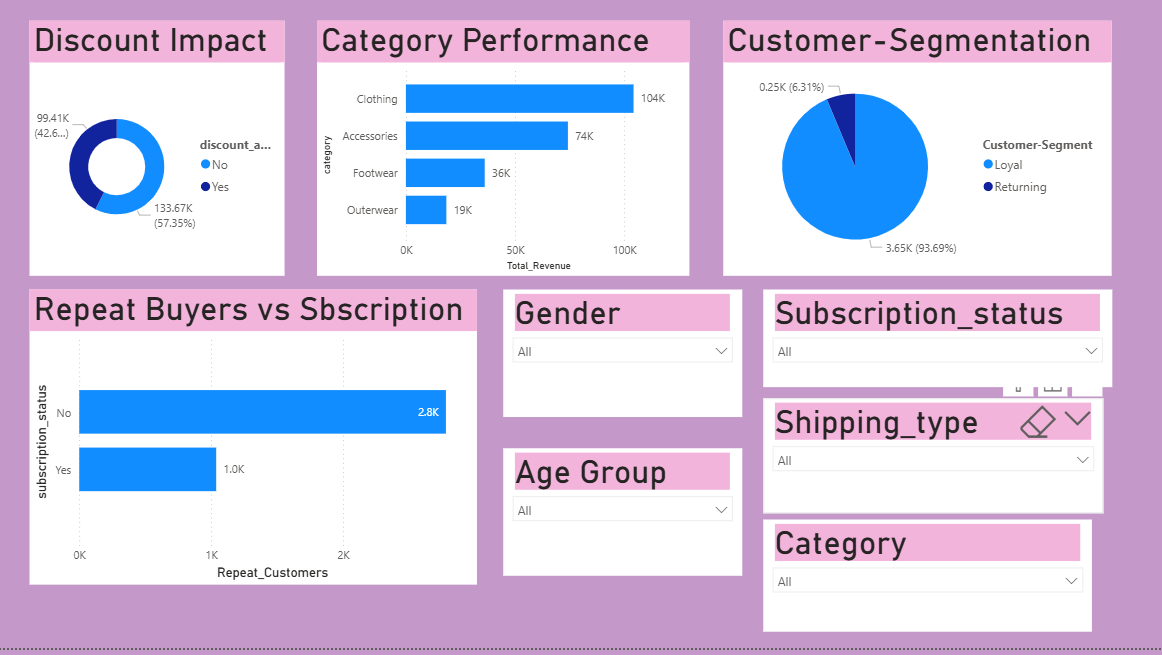

Layout of this report page (visuals, bound fields, positions):
{"tool":"powerbi","page":{"name":"Page 3","canvas":[1280,720],"ordinal":2},"visuals":[{"type":"donutChart","title":"Discount Impact","fields":{"Category":["cleaned_customer_data.discount_applied"],"Y":["Cleaned Customer Data.Total_Revenue"]},"box":[35.7,31.6,279.9,279.9],"z":0},{"type":"pieChart","title":" Customer-Segmentation","fields":{"Y":["CountNonNull(cleaned_customer_data.customer_id)"],"Category":["cleaned_customer_data.Customer-Segment"]},"box":[797.3,31.6,426.8,279.9],"z":1000},{"type":"barChart","title":"Category Performance","fields":{"Category":["cleaned_customer_data.category"],"Y":["Cleaned Customer Data.Total_Revenue"]},"box":[351.3,31.6,408.9,279.9],"z":2000},{"type":"slicer","fields":{"Values":["cleaned_customer_data.gender"]},"box":[555.7,326.6,262.1,140],"z":3000},{"type":"slicer","fields":{"Values":["cleaned_customer_data.age_group"]},"box":[555.7,500.9,262.1,140],"z":4000},{"type":"slicer","fields":{"Values":["cleaned_customer_data.shipping_type"]},"box":[841.2,446,373.2,126.2],"z":5000},{"type":"slicer","fields":{"Values":["cleaned_customer_data.subscription_status"]},"box":[841.2,326.6,382.8,107],"z":6000},{"type":"slicer","fields":{"Values":["cleaned_customer_data.category"]},"box":[841.2,579.1,360.9,123.5],"z":7000},{"type":"barChart","title":"Repeat Buyers vs Sbscription","fields":{"Y":["Cleaned Customer Data.Repeat_Customers"],"Category":["cleaned_customer_data.subscription_status"]},"box":[35.7,326.6,491.3,323.8],"z":8000}]}

Visuals, with their boxes in screenshot pixels (x1, y1, x2, y2), scaled from the page's 1280x720 canvas onto the 1162x655 screenshot:
"Discount Impact" donutChart: crop(32, 29, 287, 283)
" Customer-Segmentation" pieChart: crop(724, 29, 1111, 283)
"Category Performance" barChart: crop(319, 29, 690, 283)
slicer - cleaned_customer_data.gender: crop(504, 297, 742, 424)
slicer - cleaned_customer_data.age_group: crop(504, 456, 742, 583)
slicer - cleaned_customer_data.shipping_type: crop(764, 406, 1102, 521)
slicer - cleaned_customer_data.subscription_status: crop(764, 297, 1111, 394)
slicer - cleaned_customer_data.category: crop(764, 527, 1091, 639)
"Repeat Buyers vs Sbscription" barChart: crop(32, 297, 478, 592)
